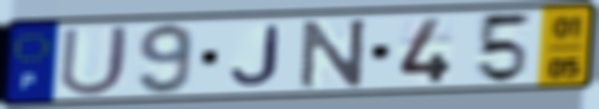4: (395, 16, 455, 86)
5: (475, 12, 532, 86)
9: (135, 21, 196, 97)
J: (227, 24, 283, 88)
N: (297, 16, 371, 91)
U: (56, 23, 134, 99)
